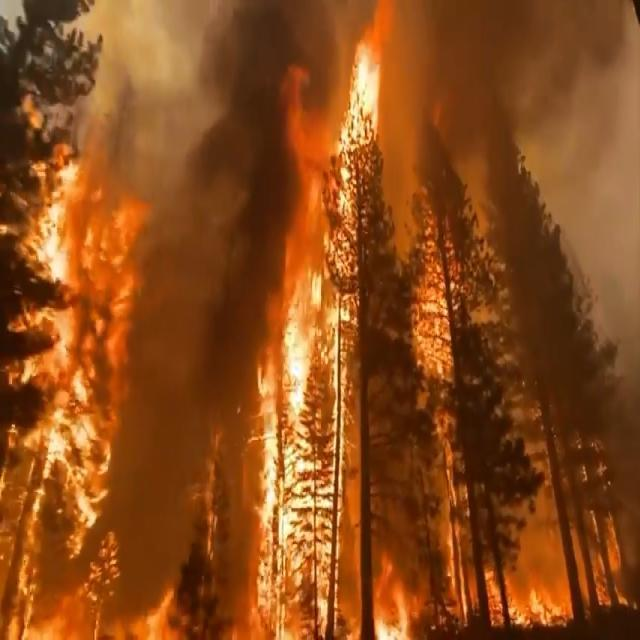Fire: (2, 0, 619, 628)
